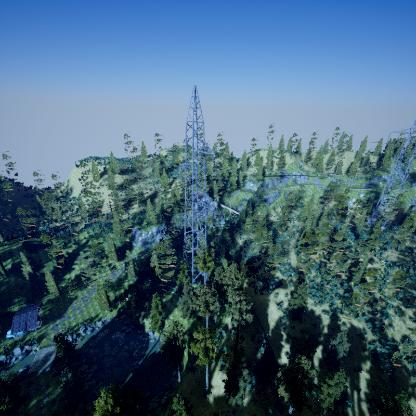tower: (175, 83, 218, 297)
